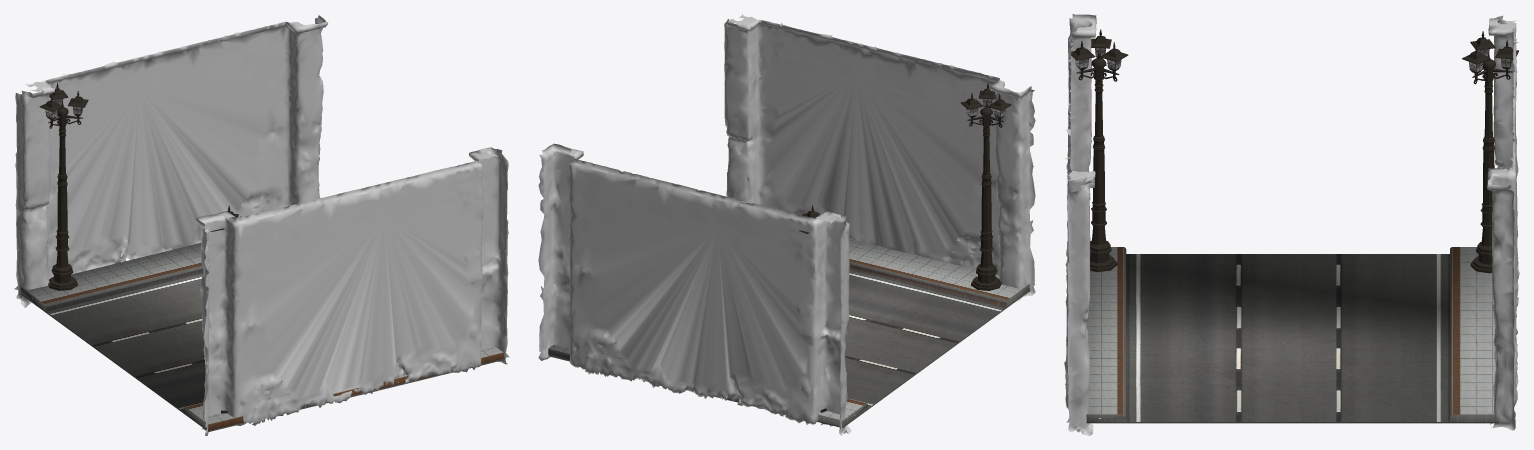
File: Env.fbx
The picture shows the model from 3 angles, left to right: view 1: azimuth 30°, elevation 25°; view 2: azimuth 150°, elevation 25°; view 3: azimuth 270°, elevation 25°; orthographic projection. The views are drawn at different scales.
Parts seen in each view (by area): view 1: Wall1.001, Wall1, Road1, Lamp-Right.003; view 2: Wall1, Wall1.001, Road1, Lamp-Left.003; view 3: Road1, Wall1.001, Wall1, Lamp-Left.003, Lamp-Right.003.
Part boxes in pixels (x1,y1,x2,y2): Wall1.001: (196, 147, 509, 435); Wall1: (14, 14, 328, 307); Road1: (20, 243, 503, 431); Lamp-Right.003: (39, 83, 88, 290); Wall1: (538, 143, 851, 435); Wall1.001: (724, 14, 1035, 301); Road1: (548, 239, 1030, 427); Lamp-Left.003: (960, 83, 1011, 290); Road1: (1069, 247, 1498, 423); Wall1.001: (1064, 14, 1096, 435); Wall1: (1487, 15, 1519, 430); Lamp-Left.003: (1071, 29, 1128, 272); Lamp-Right.003: (1462, 31, 1518, 273).
Bounding box in the file's own units: 7.76 × 5.2 × 8.57.
